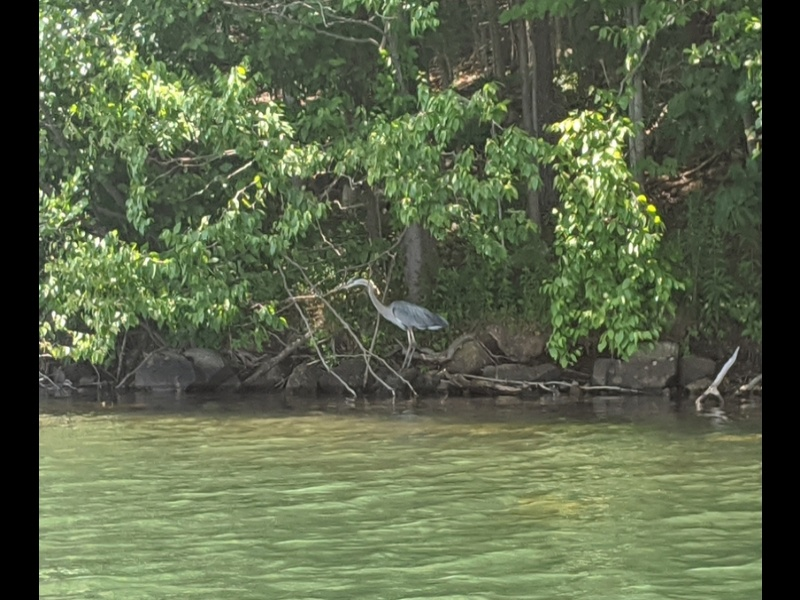heron: (344, 275, 450, 382)
